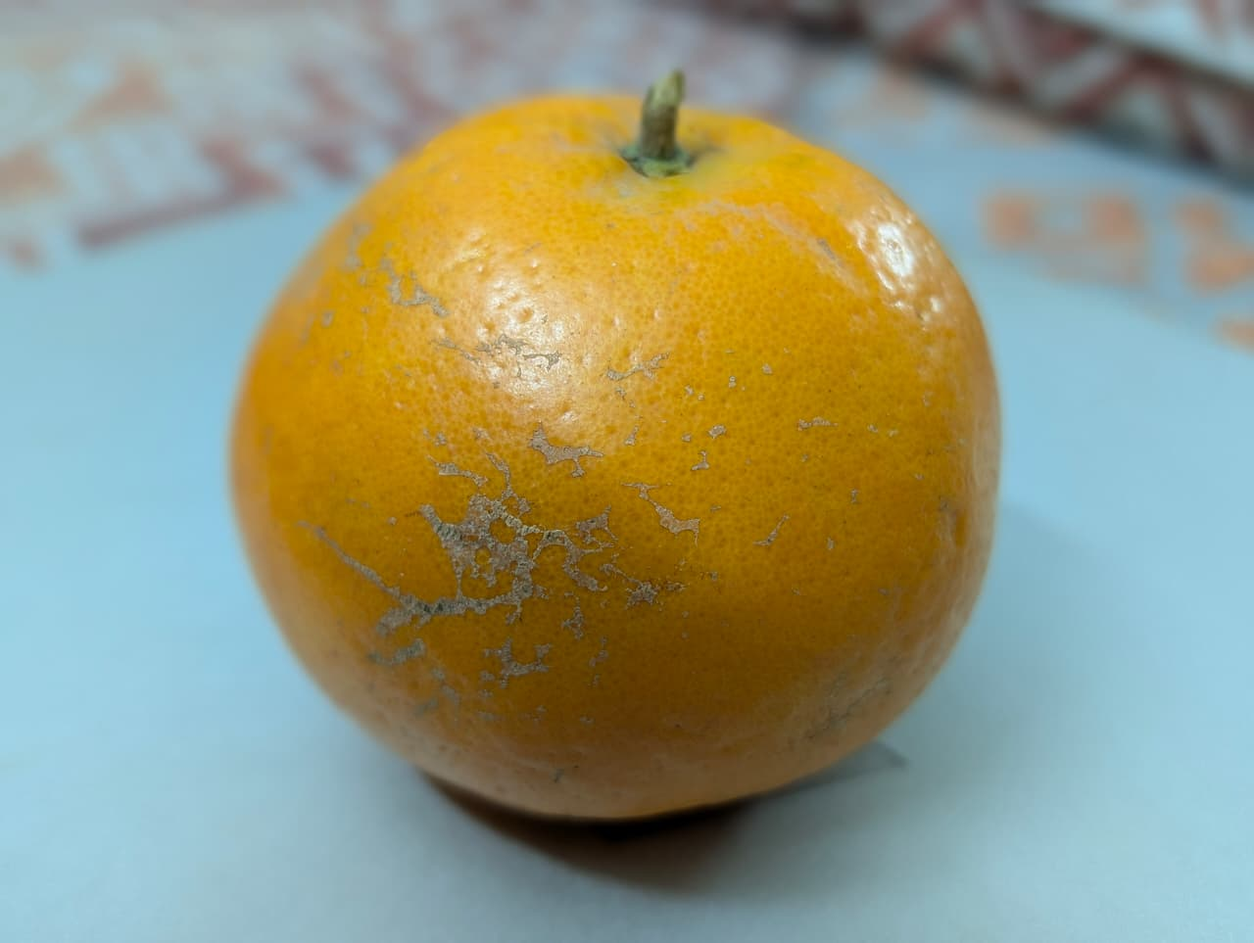orange: (26, 128, 1094, 863)
